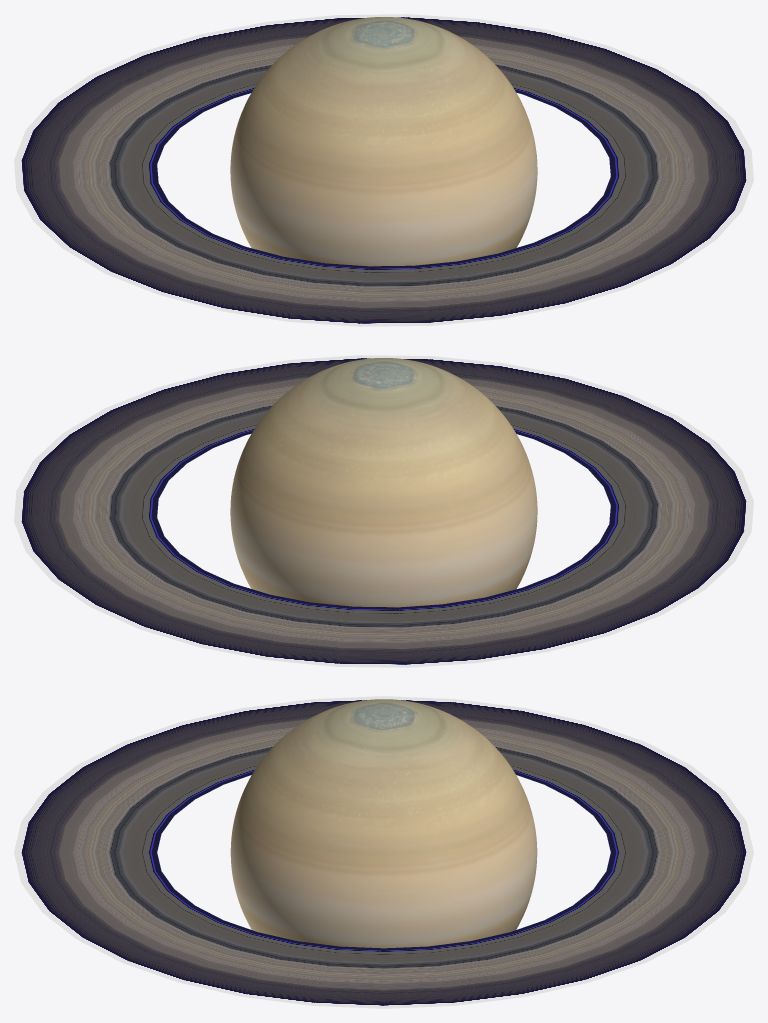
The model's file is saturno.fbx.
3 views of the same model, one above another, from view 1: azimuth 30°, elevation 25°; view 2: azimuth 150°, elevation 25°; view 3: azimuth 270°, elevation 25° (orthographic).
Visible parts, largest first — view 1: Circle, Sphere; view 2: Circle, Sphere; view 3: Circle, Sphere.
Boxes of the visible parts, <box> form: Circle: <box>14,14,753,326</box>; Sphere: <box>230,17,537,266</box>; Circle: <box>14,355,753,667</box>; Sphere: <box>230,358,537,607</box>; Circle: <box>14,696,753,1008</box>; Sphere: <box>230,699,537,948</box>.
Size of the model in its own units: 483 by 200 by 483.
Materials: 2 (2 with a texture image).
